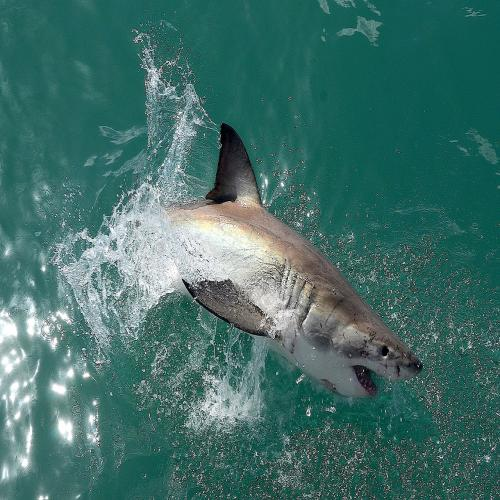shark-endangered: (141, 176, 429, 417)
